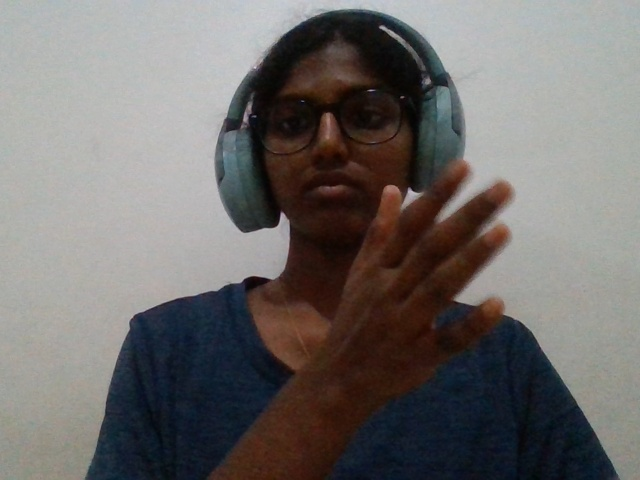Bye: (285, 153, 553, 434)
